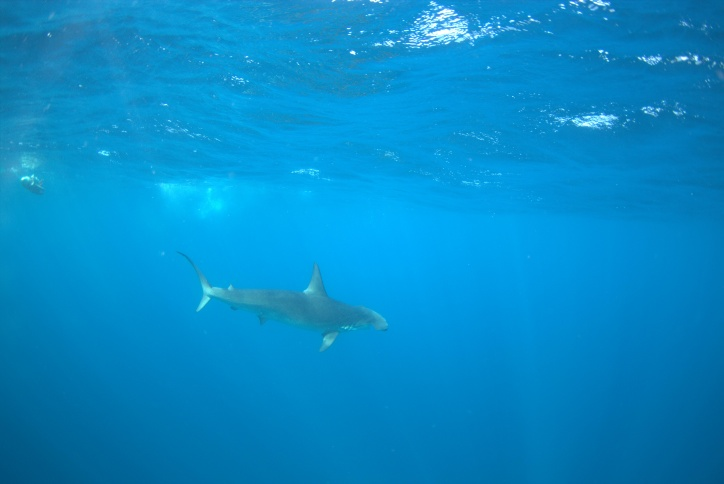Hammer: (158, 237, 408, 368)
